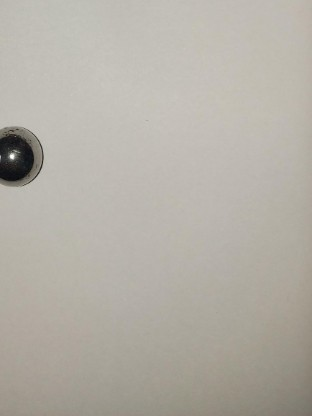ironball: (0, 116, 47, 191)
